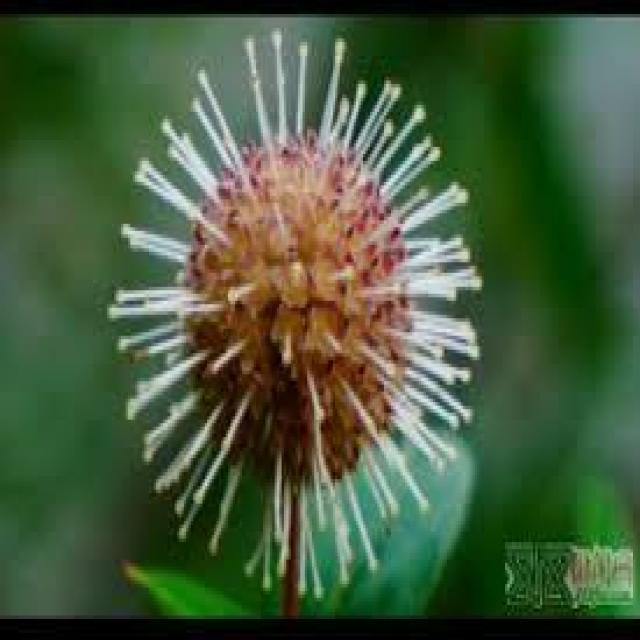organic waste: (105, 30, 479, 603)
